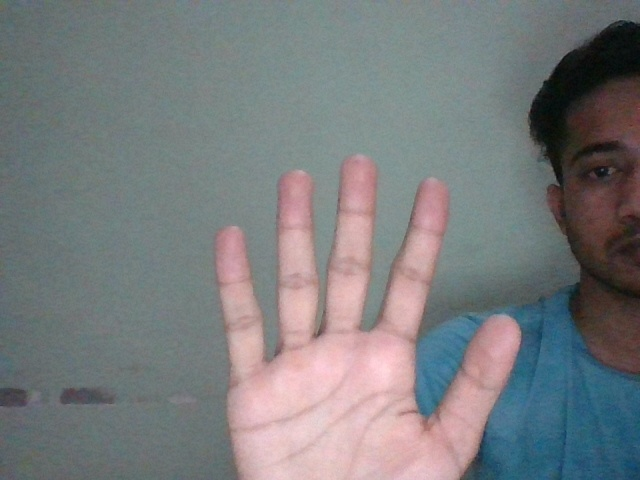Hello: (212, 151, 521, 480)
